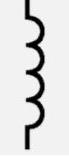inductor: (10, 11, 53, 141)
